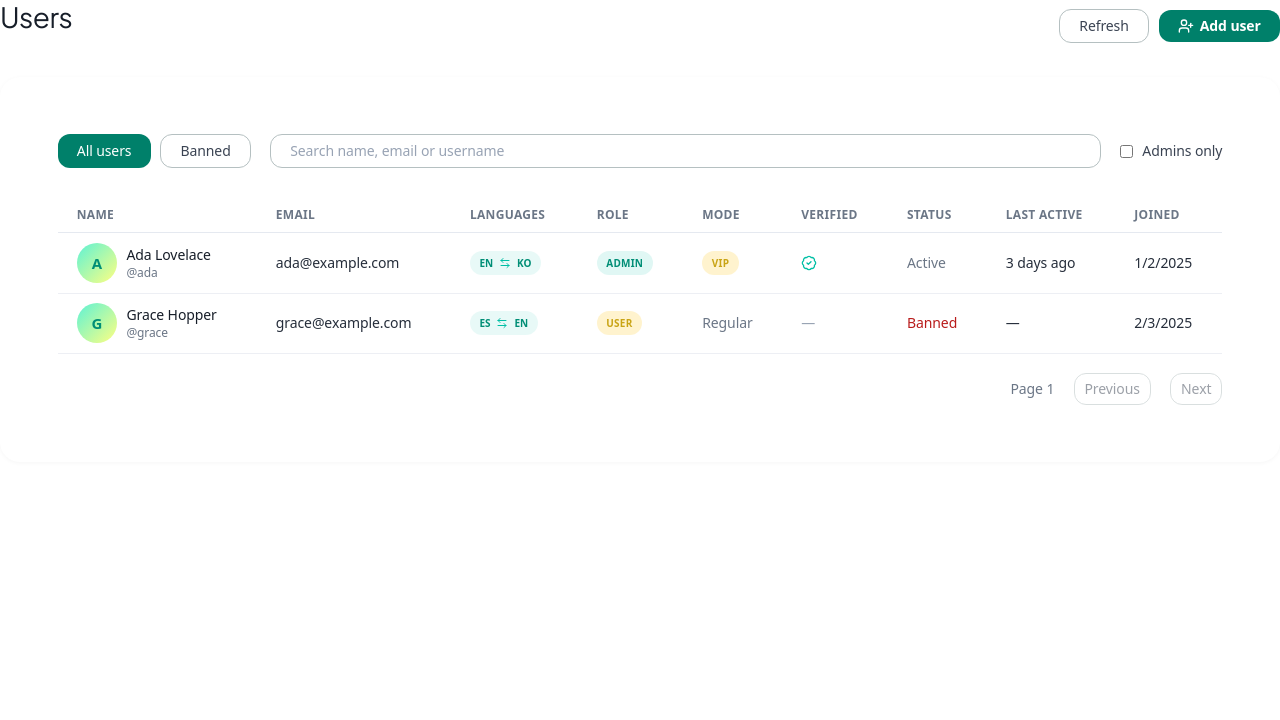
closes the register popup again
Click the button with test id "admin-users-add".
click(1219, 26)  # box [1159, 10, 1279, 42]
(page scrolled)
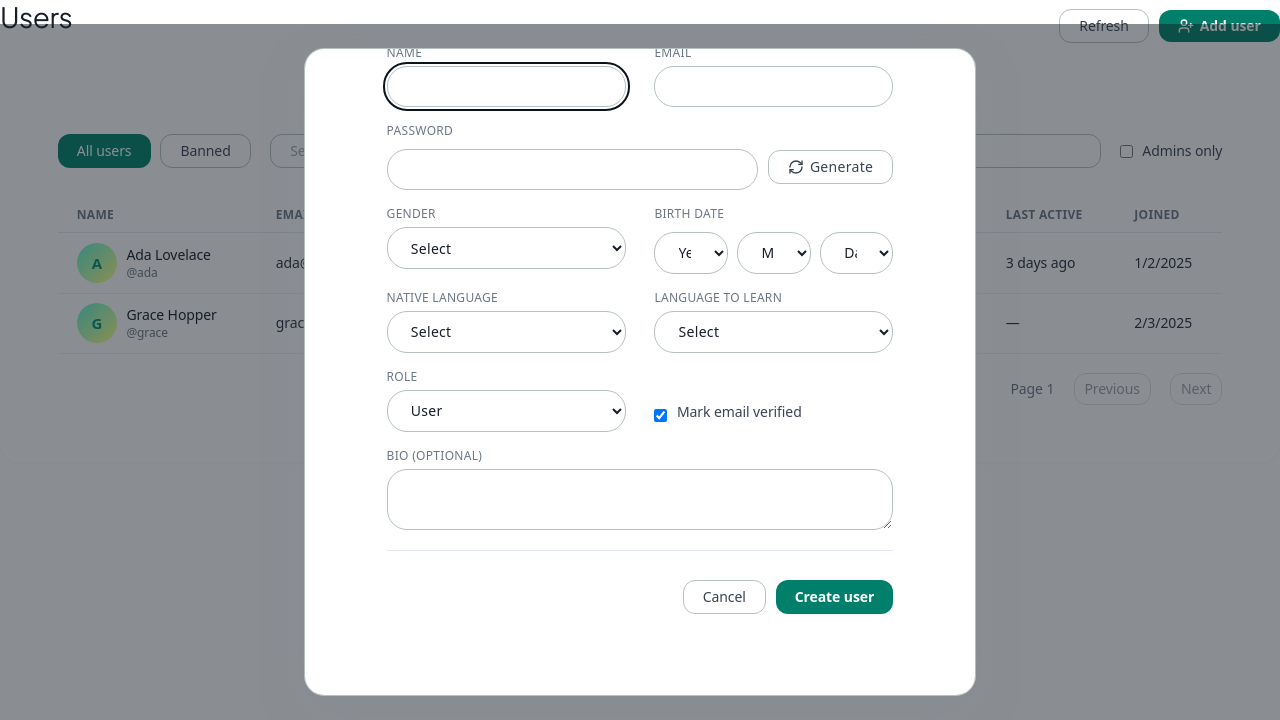
Click the button with test id "register-user-cancel".
click(724, 597)  # box [683, 580, 766, 614]
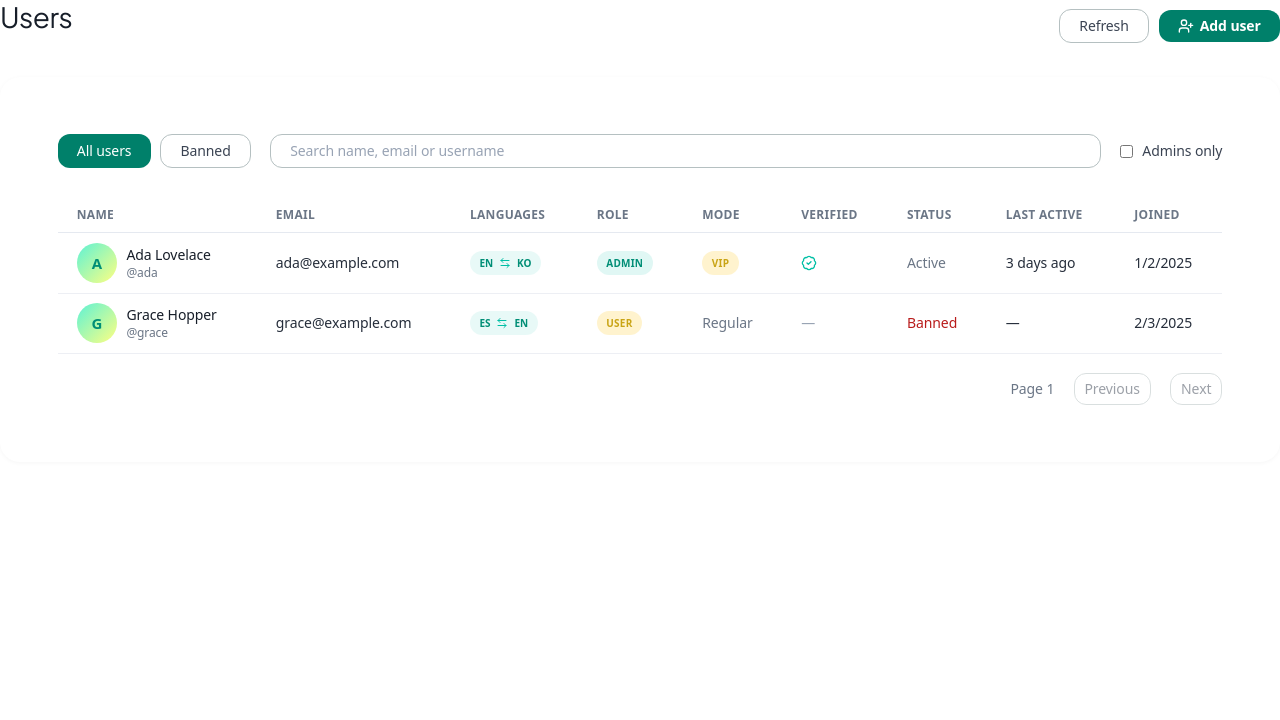
Expected: the dialog with test id "register-user-dialog" is gone
